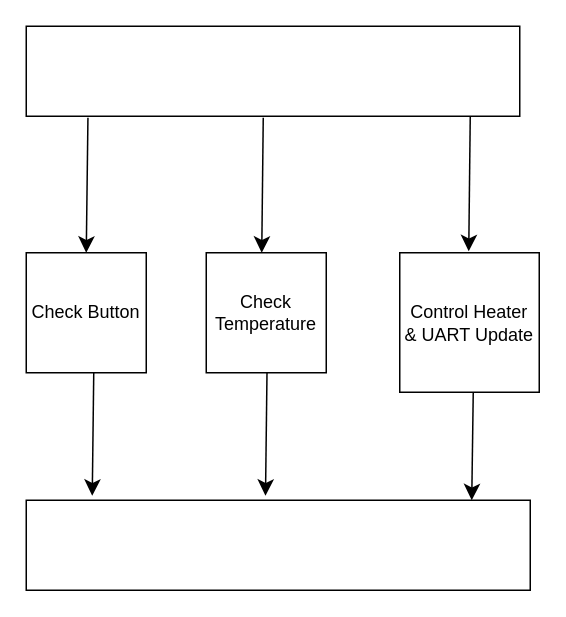
The diagram is 566 pixels wide and 617 high, and some of its shapes have lost their labels. The box of each missing label's shape, as (x1, y1, x2, y2) in pixels:
IDLE -Waiting for the next timer event: (25, 25, 520, 116)
Return to IDLE: (25, 499, 530, 590)
